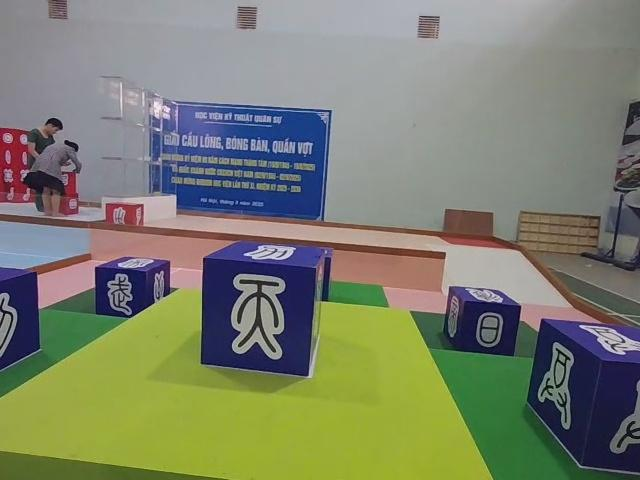R2 Fake Blue: (201, 241, 329, 377), (444, 286, 522, 357), (95, 256, 170, 319)
R2 Real Blue: (524, 319, 637, 473)
